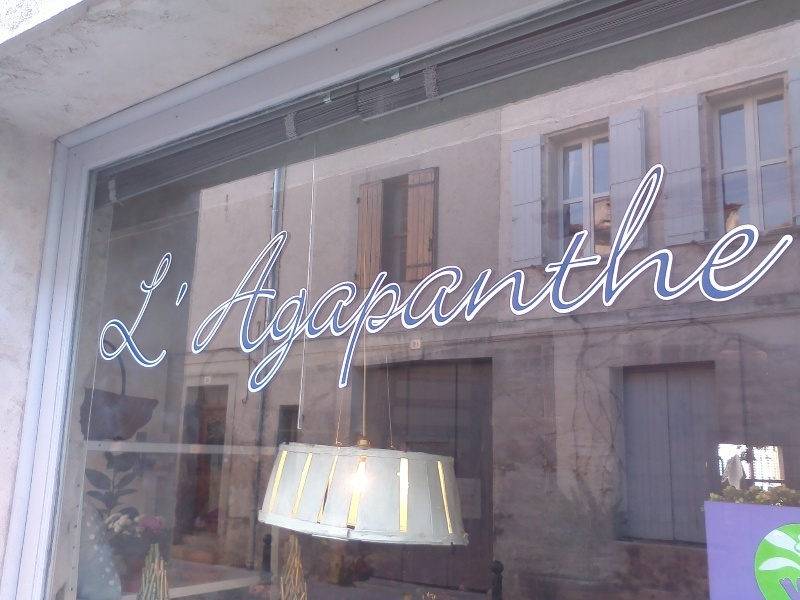text: (113, 138, 128, 405), (129, 138, 144, 405), (145, 138, 160, 405), (161, 138, 176, 405), (177, 138, 192, 405), (193, 138, 208, 405), (209, 138, 224, 405), (225, 138, 240, 405), (241, 138, 256, 405), (257, 138, 272, 405), (273, 138, 288, 405), (289, 138, 304, 405), (305, 138, 320, 405), (321, 138, 336, 405), (337, 138, 352, 405), (353, 138, 368, 405), (369, 138, 384, 405), (385, 138, 400, 405), (401, 138, 416, 405), (417, 138, 432, 405), (433, 138, 448, 405), (449, 138, 464, 405), (465, 138, 480, 405), (481, 138, 496, 405), (497, 138, 512, 405), (513, 138, 528, 405), (529, 138, 544, 405), (545, 138, 560, 405), (561, 138, 576, 405), (577, 138, 592, 405), (593, 138, 608, 405), (609, 138, 624, 405), (625, 138, 640, 405), (641, 138, 656, 405), (657, 138, 672, 405), (673, 138, 688, 405), (689, 138, 704, 405), (705, 138, 720, 405), (721, 138, 736, 405), (737, 138, 752, 405), (753, 138, 768, 405), (769, 138, 784, 405), (785, 138, 797, 405), (102, 138, 112, 405)
